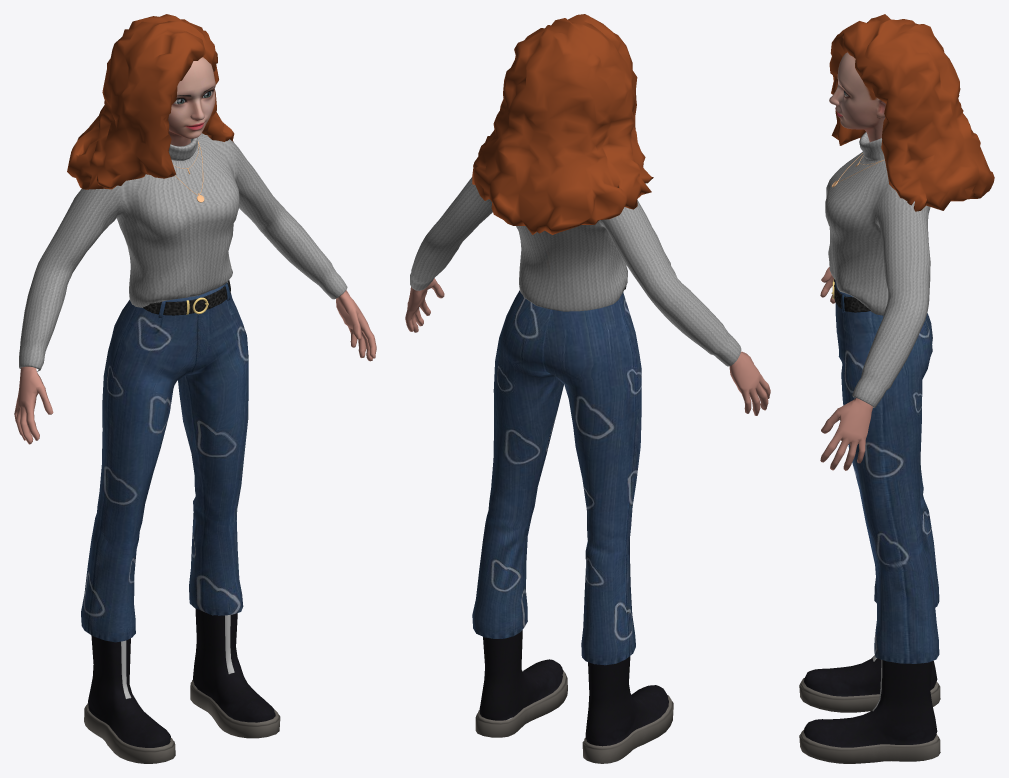
File: curly-woman.gltf
The picture shows the model from 3 angles, left to right: view 1: azimuth 30°, elevation 25°; view 2: azimuth 150°, elevation 25°; view 3: azimuth 270°, elevation 25°; orthographic projection.
Visible parts, largest first — view 1: Wolf3D_Outfit_Bottom, Wolf3D_Outfit_Top, Wolf3D_Hair, Wolf3D_Outfit_Footwear, Wolf3D_Body, Wolf3D_Head; view 2: Wolf3D_Outfit_Bottom, Wolf3D_Hair, Wolf3D_Outfit_Top, Wolf3D_Outfit_Footwear, Wolf3D_Body; view 3: Wolf3D_Outfit_Bottom, Wolf3D_Hair, Wolf3D_Outfit_Top, Wolf3D_Outfit_Footwear, Wolf3D_Head, Wolf3D_Body.
Boxes of the visible parts, left/top/right/bottom form: Wolf3D_Outfit_Bottom: left=81, top=280, right=248, bottom=642; Wolf3D_Outfit_Top: left=19, top=133, right=347, bottom=371; Wolf3D_Hair: left=67, top=14, right=234, bottom=189; Wolf3D_Outfit_Footwear: left=84, top=608, right=280, bottom=763; Wolf3D_Body: left=14, top=290, right=376, bottom=444; Wolf3D_Head: left=168, top=57, right=215, bottom=146; Wolf3D_Outfit_Bottom: left=472, top=286, right=641, bottom=665; Wolf3D_Hair: left=472, top=14, right=653, bottom=234; Wolf3D_Outfit_Top: left=410, top=177, right=741, bottom=366; Wolf3D_Outfit_Footwear: left=475, top=630, right=673, bottom=763; Wolf3D_Body: left=405, top=278, right=770, bottom=415; Wolf3D_Outfit_Bottom: left=831, top=278, right=939, bottom=663; Wolf3D_Hair: left=829, top=14, right=994, bottom=211; Wolf3D_Outfit_Top: left=825, top=132, right=930, bottom=407; Wolf3D_Outfit_Footwear: left=799, top=655, right=940, bottom=763; Wolf3D_Head: left=829, top=52, right=885, bottom=141; Wolf3D_Body: left=820, top=267, right=872, bottom=470.
Bounding box in the file's own units: 0.9279 × 1.78 × 0.4458.
9 materials, 9 textured.
